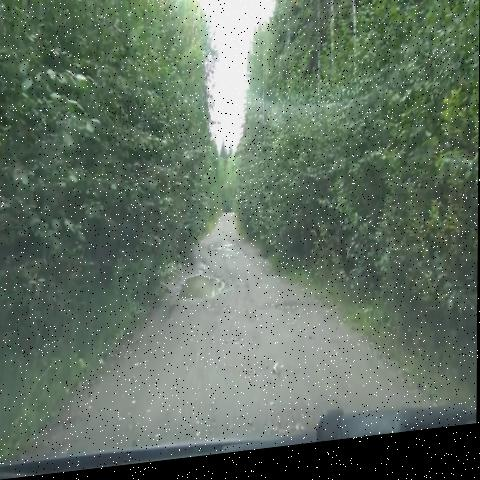pothole: (176, 255, 230, 324), (262, 294, 303, 340), (213, 240, 245, 274)
